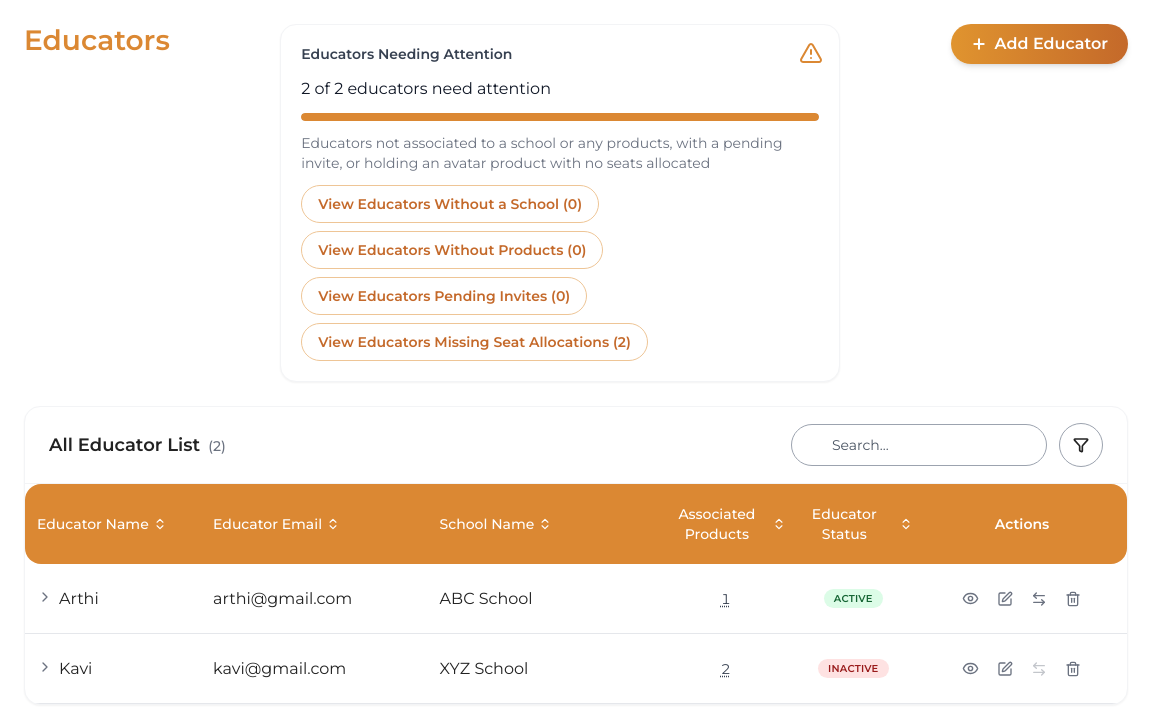
Test: Educators Filter & Search Unit Test › should open filter panel when filter button is clicked
Step 1. Click the button "View Educators Without Products (0)" → {"x": 452, "y": 250}, box [301, 231, 604, 269]
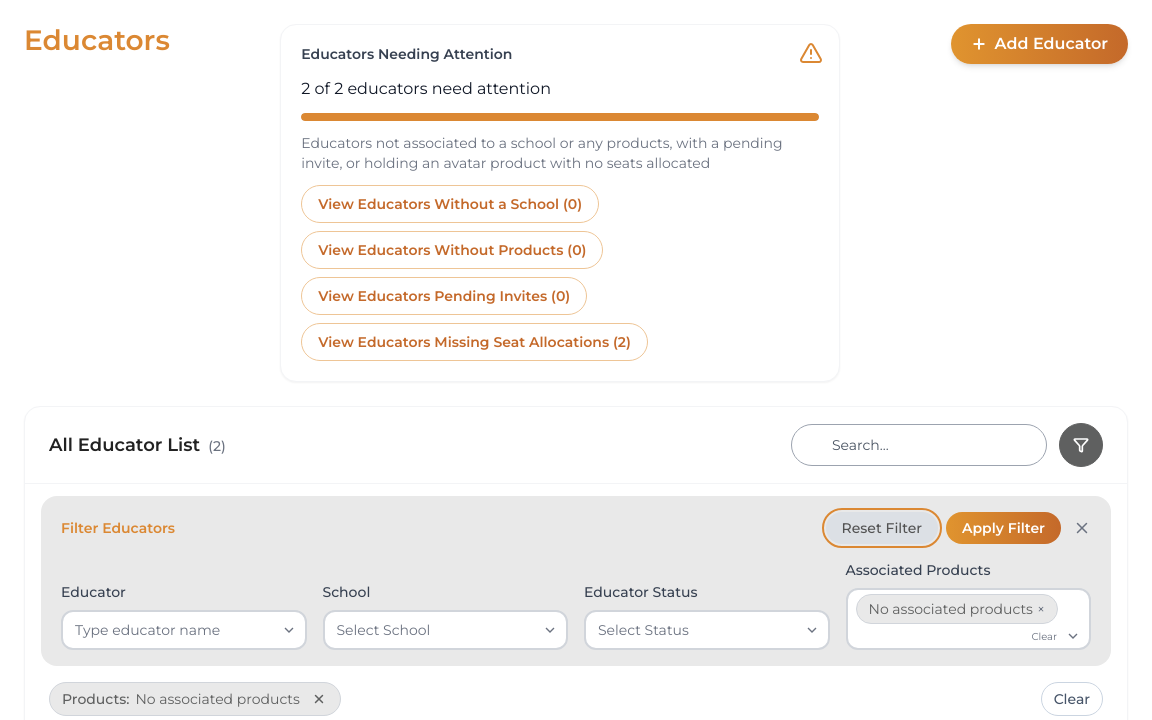
Expected: the text "Filter Educators" is shown, [61, 518, 175, 538]
